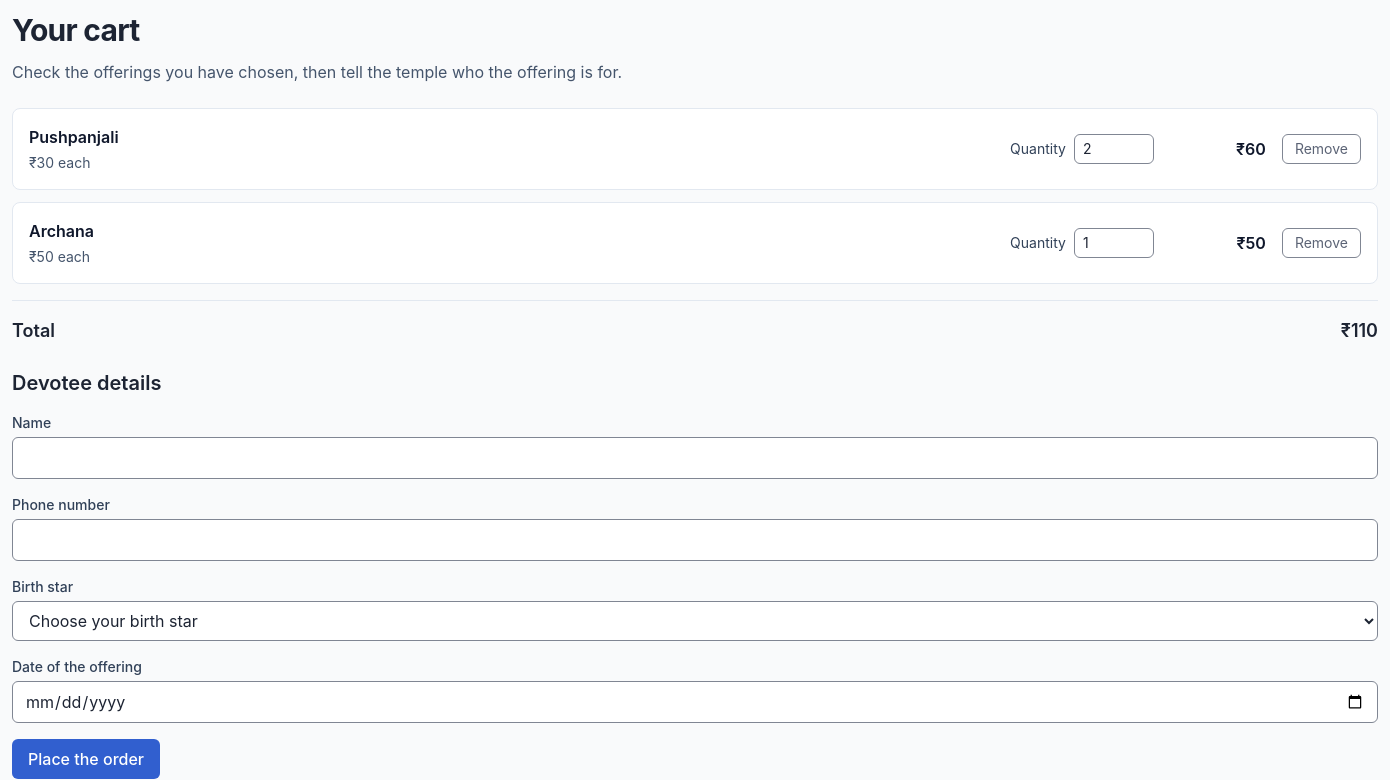
Test: Cart › drops the line and its price when the devotee removes it
Click the button with aria-label "Remove Archana": (1321, 243) [1282,228,1361,258]
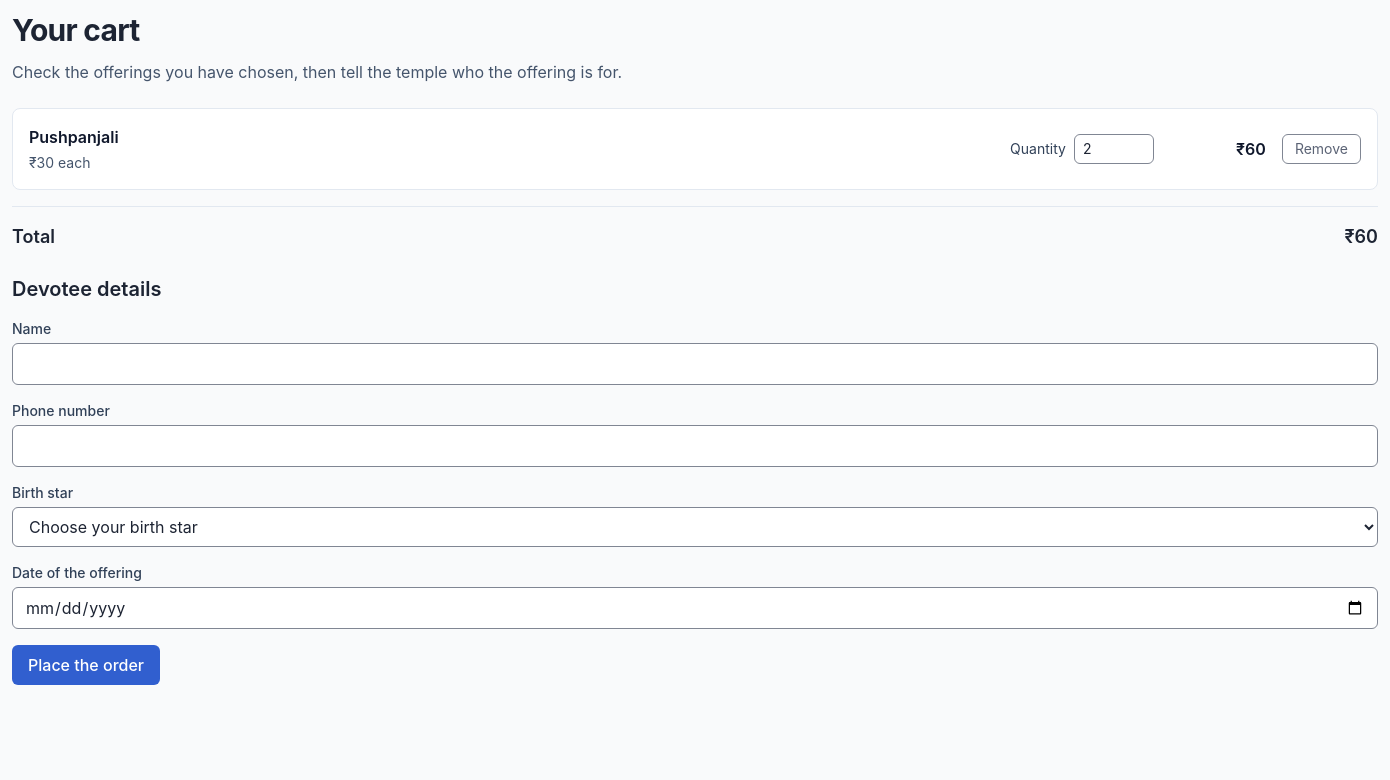
Check: the heading "Archana" is gone
Check: the text "Total" shows "₹60", box [1344,226,1378,247]
